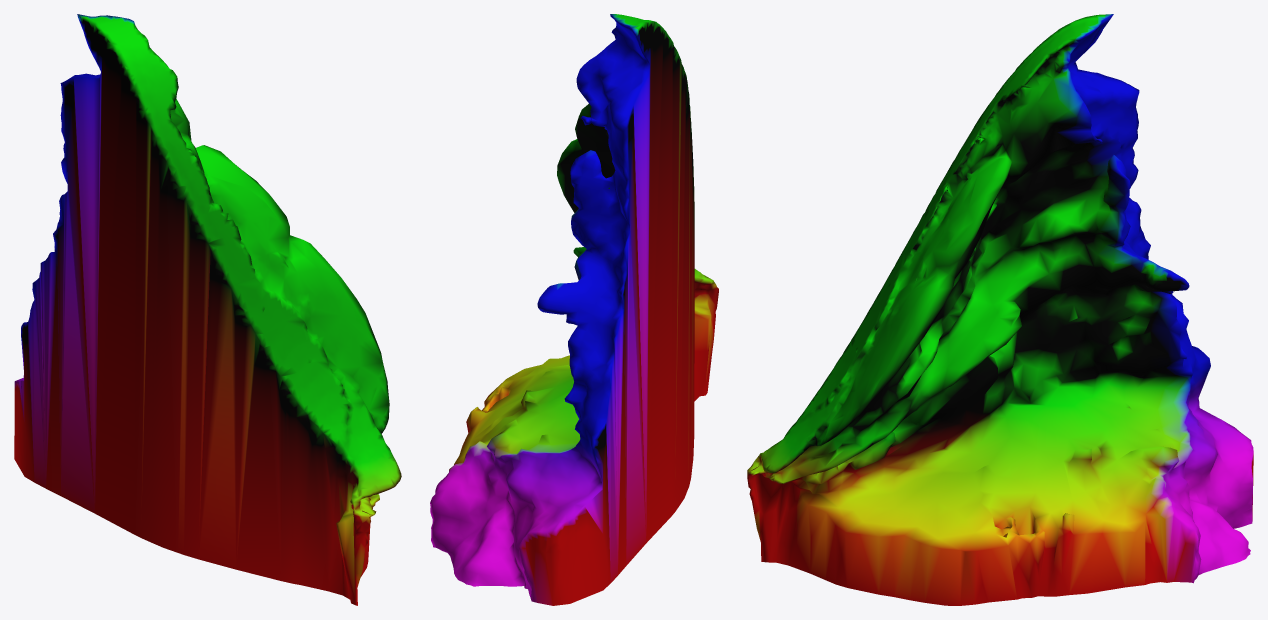
The model's file is desert-end-left.glb.
3 renders of one model, left to right at view 1: azimuth 30°, elevation 25°; view 2: azimuth 150°, elevation 25°; view 3: azimuth 270°, elevation 25°, orthographic. The views are drawn at different scales.
Parts seen in each view (by area): view 1: desert-end-left_lod0; view 2: desert-end-left_lod0; view 3: desert-end-left_lod0.
Part boxes in pixels (x1,y1,x2,y2): desert-end-left_lod0: (14, 14, 401, 605); desert-end-left_lod0: (430, 14, 718, 605); desert-end-left_lod0: (747, 14, 1253, 605).
Size of what is drawn, in the model's own units: 10.22 by 22.62 by 20.93.
